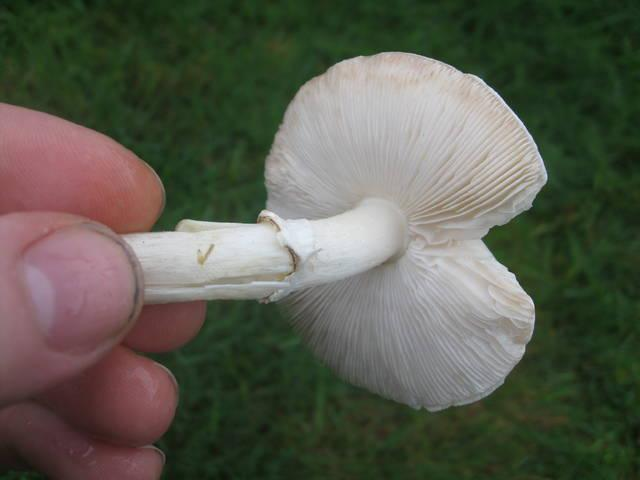poisonous_mushroom: (112, 49, 549, 413)
